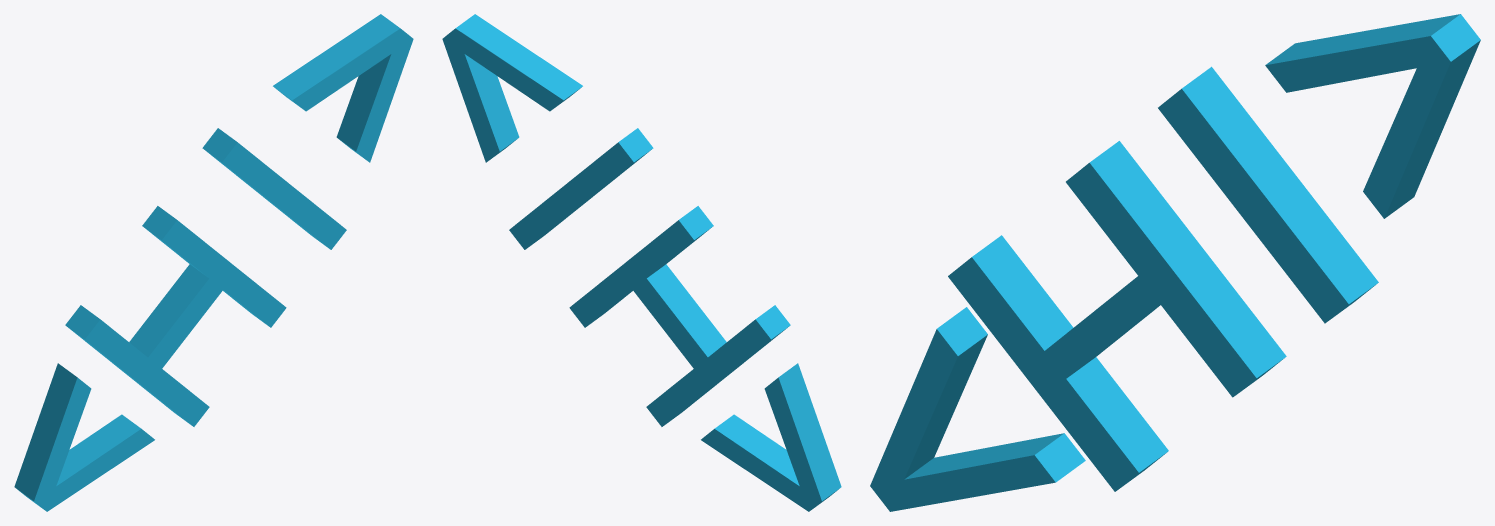
Rendered from HEADERMODEL.glb.
3 renders of one model, left to right at view 1: azimuth 30°, elevation 25°; view 2: azimuth 150°, elevation 25°; view 3: azimuth 330°, elevation 25°, orthographic. The views are drawn at different scales.
Parts seen in each view (by area): view 1: Text; view 2: Text; view 3: Text.
Boxes of the visible parts, x1,y1,x2,y2 form: Text: [14, 14, 413, 511]; Text: [442, 14, 841, 511]; Text: [870, 14, 1480, 511].
Bounding box in the file's own units: 1.68 × 1.68 × 0.1501.
